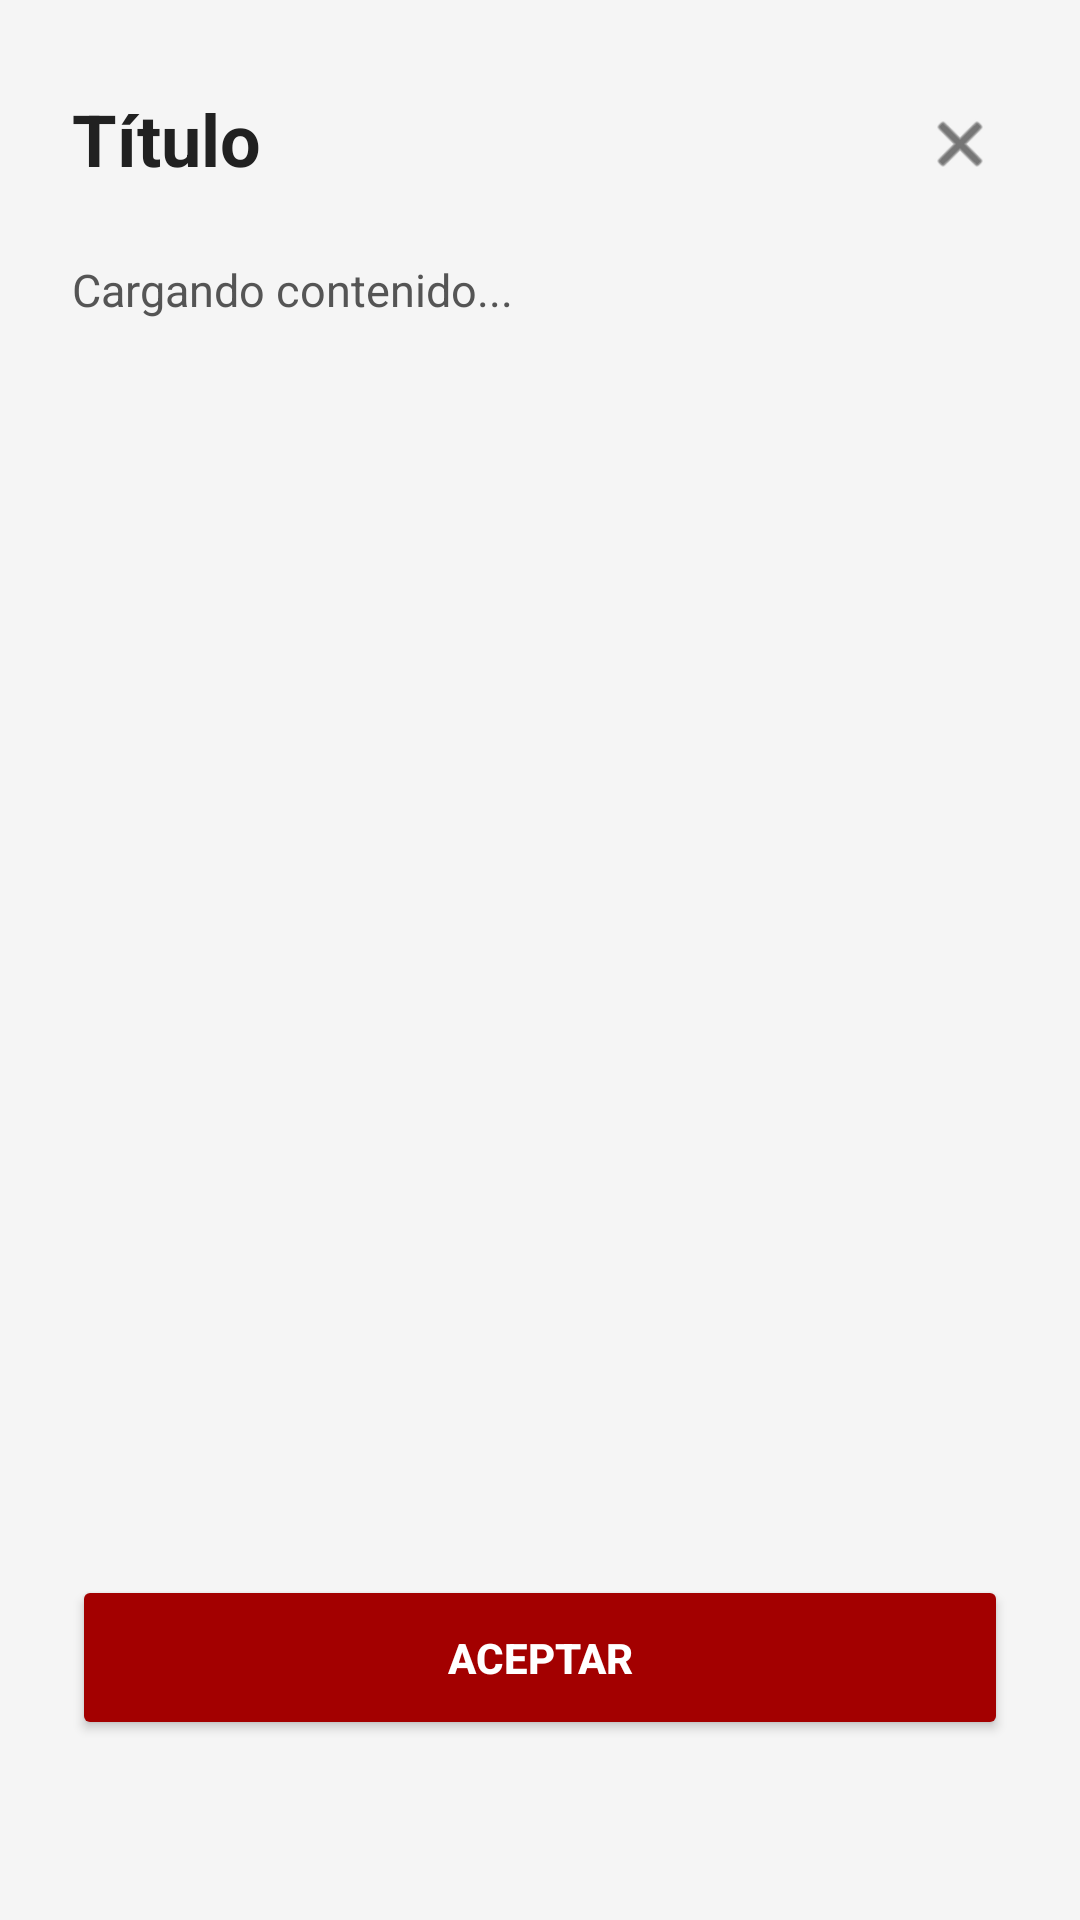

Where to tap for icons on this 1080px x 1920px app screen, as (x=x, y=y):
Cerrar: (x=960, y=144)
